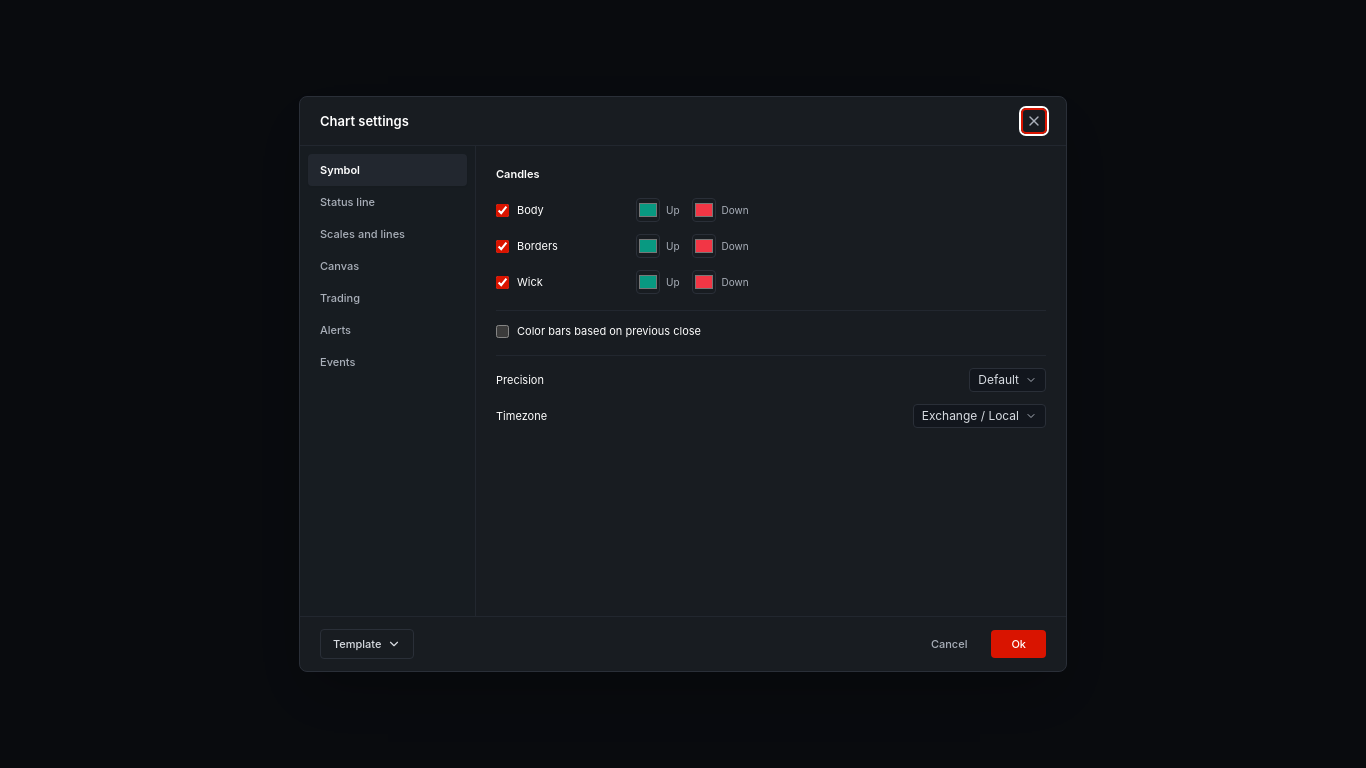
Test: ChartSettingsDialog › restores per-axis grid values from older chartSettings saves
The image size is (1366, 768).
Click the tab "Canvas".
click(388, 266)  # box [308,250,467,282]
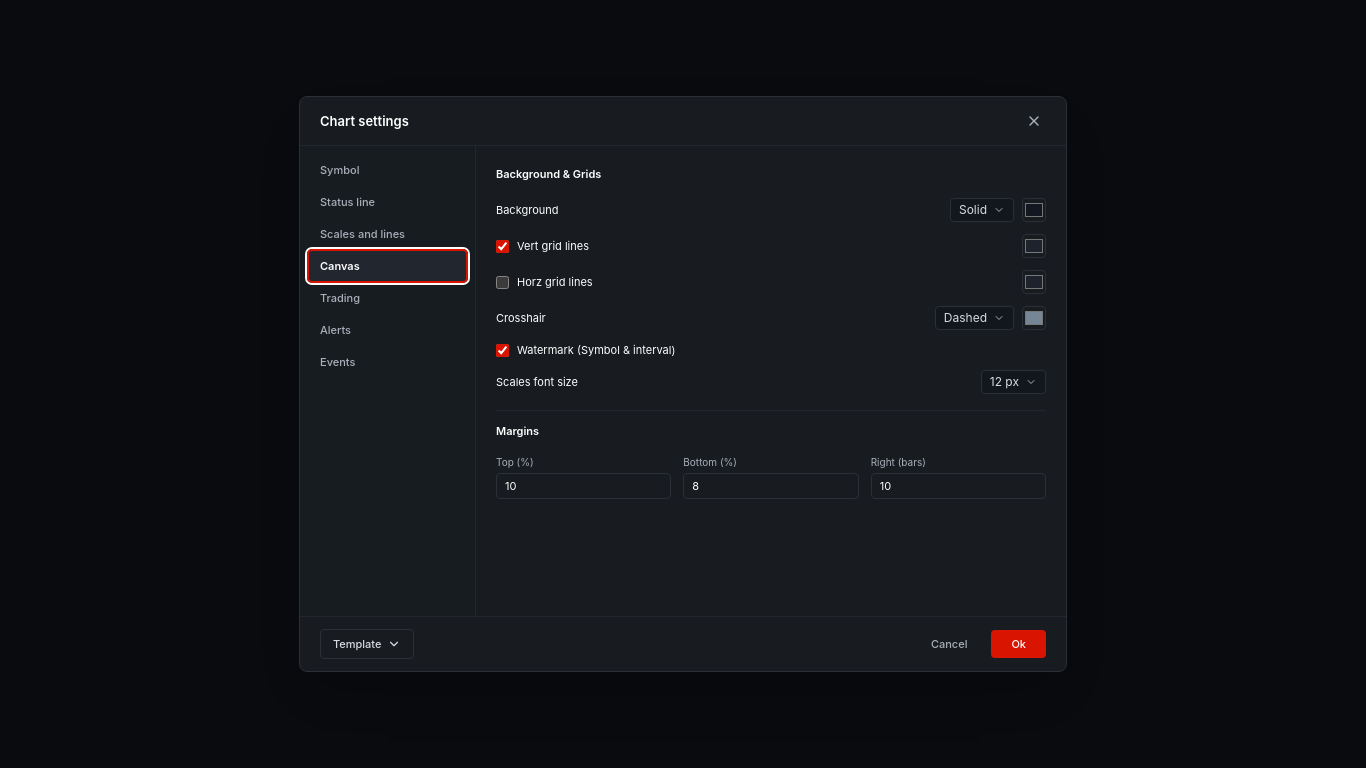
Expected: the checkbox labelled "Vert grid lines" is checked, [496,240,509,252]
Expected: the checkbox labelled "Horz grid lines" is not checked, [496,276,509,288]
